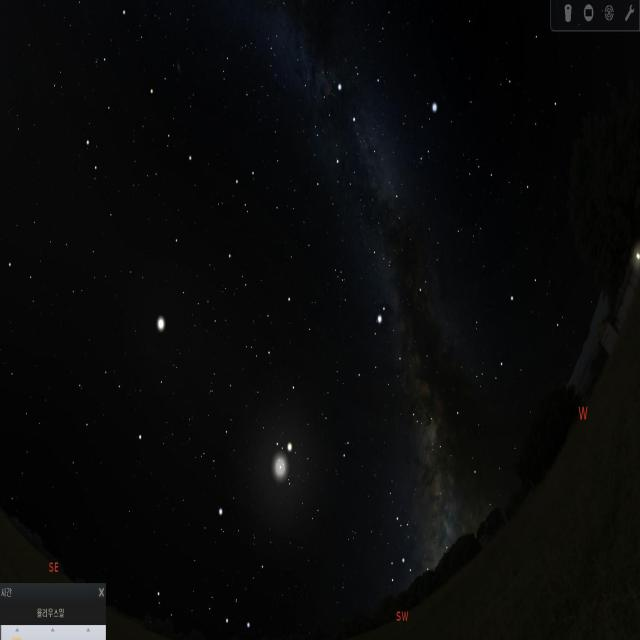aquila: (355, 299, 427, 434)
cygnus: (323, 58, 400, 202)
lyra: (415, 100, 444, 178)
moon: (266, 443, 302, 498)
